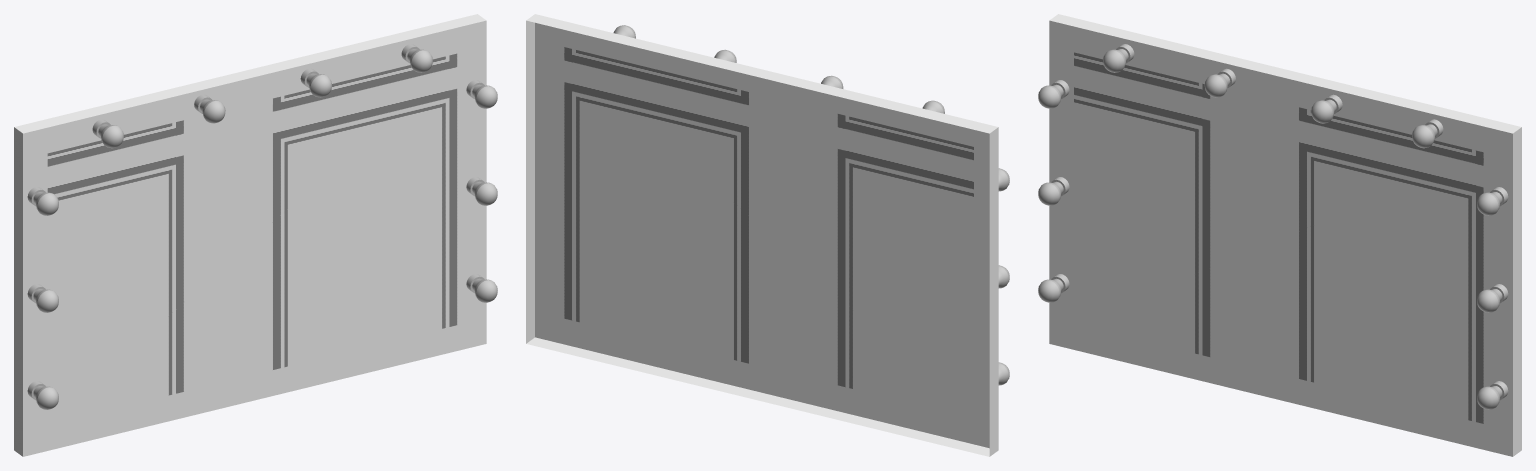
File: Mirror03_1.FBX
3 renders of one model, left to right at view 1: azimuth 30°, elevation 25°; view 2: azimuth 150°, elevation 25°; view 3: azimuth 330°, elevation 25°, orthographic.
Parts seen in each view (by area): view 1: Mirror03_1; view 2: Mirror03_1; view 3: Mirror03_1.
Boxes of the visible parts, box(x1,y1,x2,y2) form: Mirror03_1: box(14, 14, 497, 456); Mirror03_1: box(526, 14, 1009, 456); Mirror03_1: box(1038, 14, 1521, 456).
Size of the model in its own units: 150 by 100 by 15.01.
